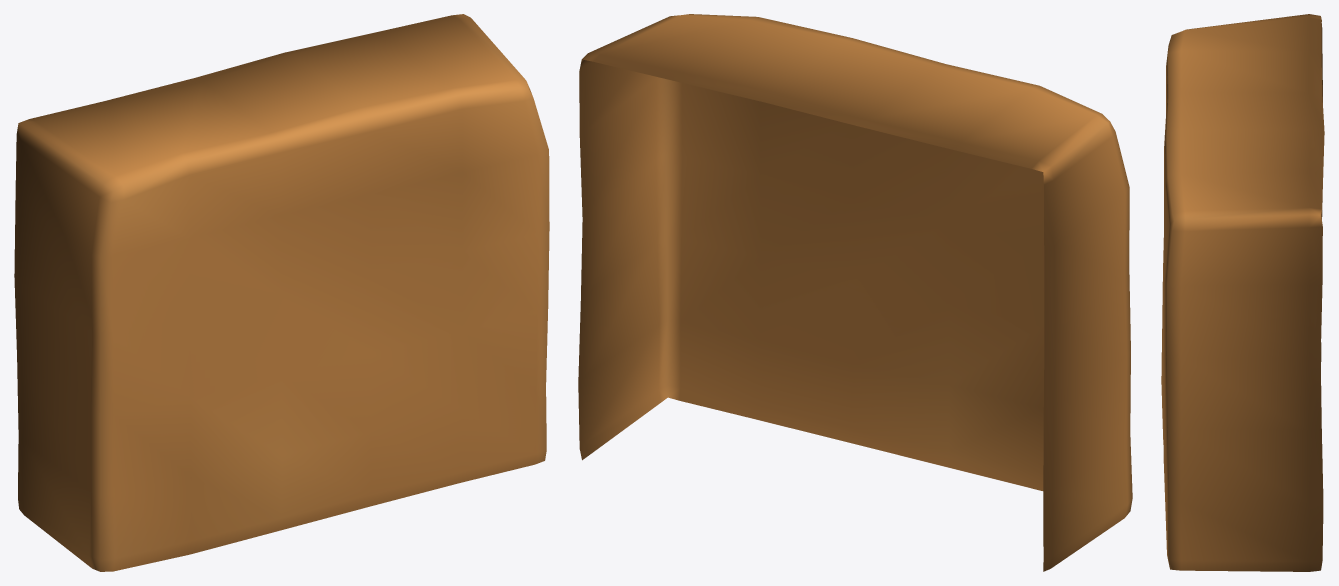
File: block_m1.glb
The picture shows the model from 3 angles, left to right: view 1: azimuth 30°, elevation 25°; view 2: azimuth 150°, elevation 25°; view 3: azimuth 270°, elevation 25°; orthographic projection. The views are drawn at different scales.
Visible parts, largest first — view 1: block_m1; view 2: block_m1; view 3: block_m1.
Part boxes in pixels (x1,y1,x2,y2): block_m1: (14, 14, 549, 571); block_m1: (578, 14, 1132, 571); block_m1: (1161, 14, 1324, 571).
Size of the model in its own units: 1.21 by 1.01 by 0.4073.
